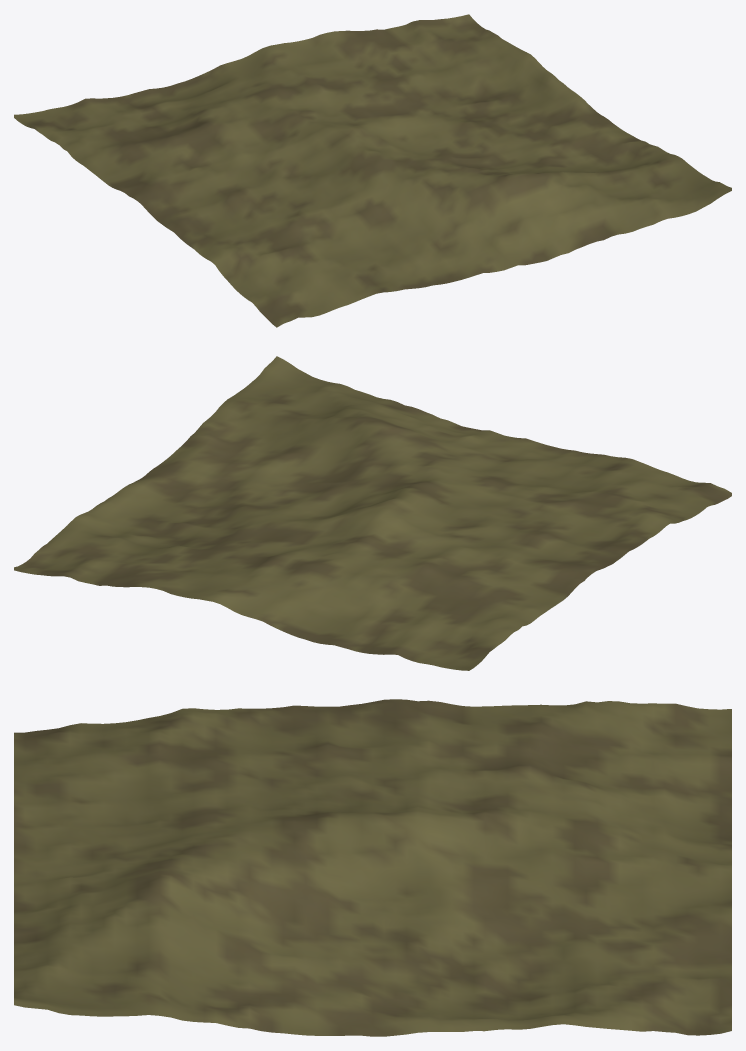
Rendered from land_f_07_09.glb.
3 renders of one model, top to bottom at view 1: azimuth 30°, elevation 25°; view 2: azimuth 150°, elevation 25°; view 3: azimuth 270°, elevation 25°, orthographic. The views are drawn at different scales.
Parts seen in each view (by area): view 1: land_f_07_09; view 2: land_f_07_09; view 3: land_f_07_09.
Part boxes in pixels (x1=…): land_f_07_09: x1=14, y1=14, x2=731, y2=327; land_f_07_09: x1=14, y1=356, x2=731, y2=670; land_f_07_09: x1=14, y1=699, x2=731, y2=1036.
Size of the model in its own units: 3840 by 347 by 3840.
